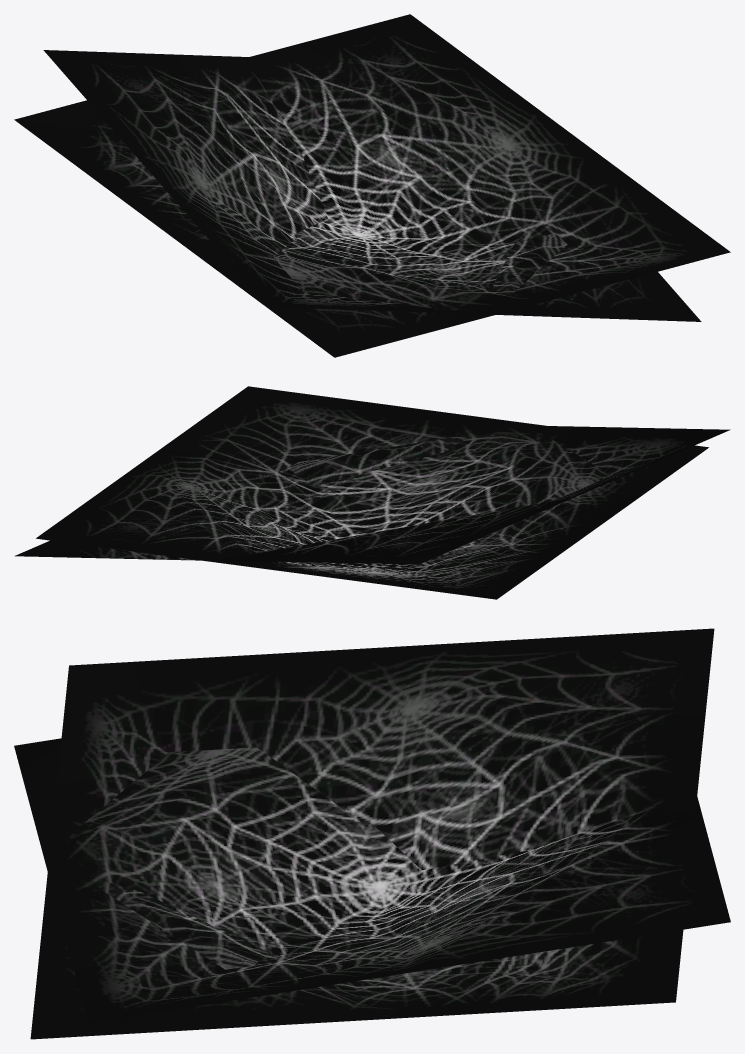
The model's file is DWARF_PALACE_SPIDERWEB04.fbx.
The picture shows the model from 3 angles, top to bottom: view 1: azimuth 30°, elevation 25°; view 2: azimuth 150°, elevation 25°; view 3: azimuth 270°, elevation 25°; orthographic projection. The views are drawn at different scales.
Parts seen in each view (by area): view 1: DWARF_PALACE_SPIDERWEB04; view 2: DWARF_PALACE_SPIDERWEB04; view 3: DWARF_PALACE_SPIDERWEB04.
Boxes of the visible parts, x1,y1,x2,y2 form: DWARF_PALACE_SPIDERWEB04: [14, 14, 730, 357]; DWARF_PALACE_SPIDERWEB04: [14, 386, 730, 599]; DWARF_PALACE_SPIDERWEB04: [14, 628, 730, 1039].
Size of the model in its own units: 77679 by 24133 by 82805.
Materials: 1 (1 with a texture image).
